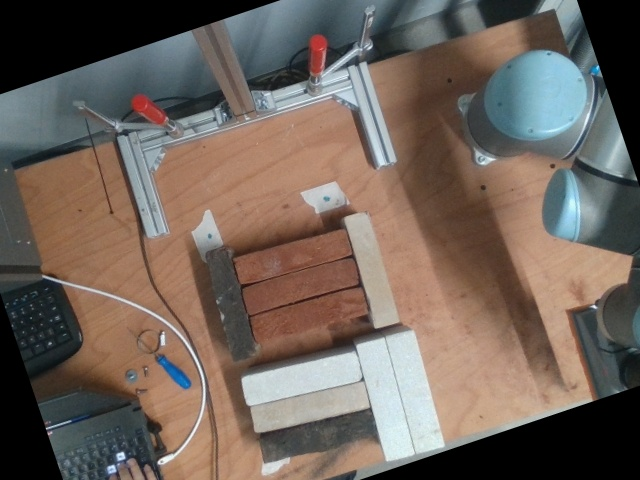brick-side: (385, 328, 447, 455), (355, 336, 417, 463), (250, 285, 367, 344), (234, 228, 352, 286), (242, 258, 359, 316), (240, 353, 363, 406), (256, 409, 379, 462), (249, 381, 371, 434), (345, 211, 399, 328), (205, 247, 257, 364)
